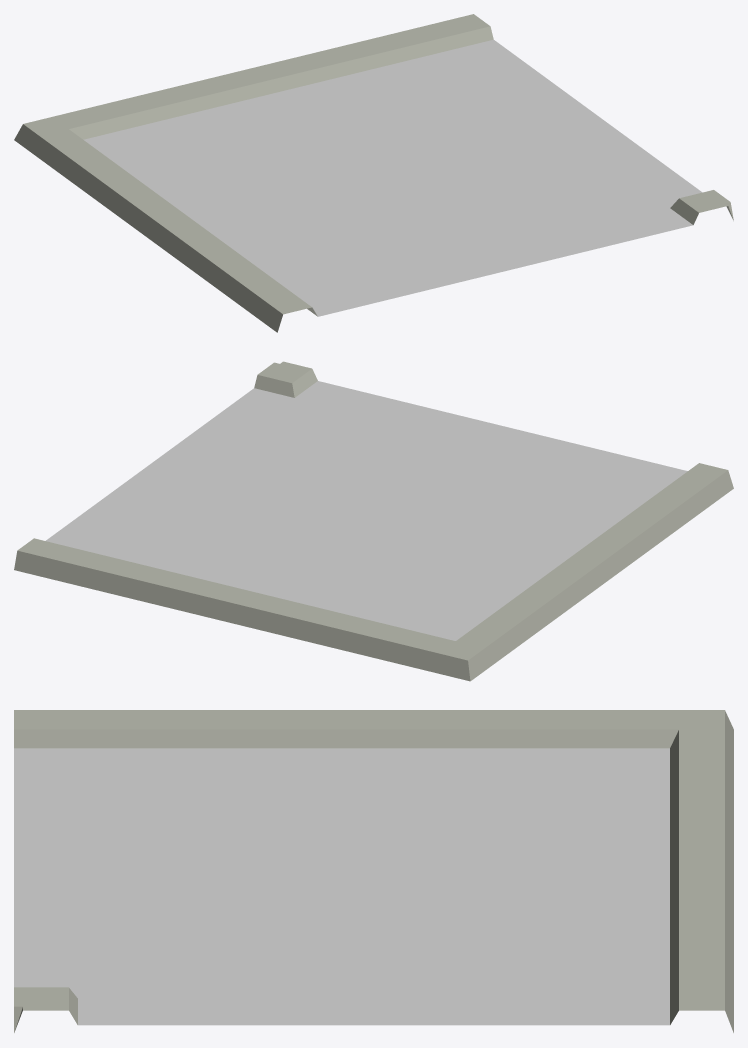
File: ParkRoad_3_D.fbx
3 renders of one model, top to bottom at view 1: azimuth 30°, elevation 25°; view 2: azimuth 150°, elevation 25°; view 3: azimuth 270°, elevation 25°, orthographic. The views are drawn at different scales.
Visible parts, largest first — view 1: ParkRoad_3_D; view 2: ParkRoad_3_D; view 3: ParkRoad_3_D.
Part boxes in pixels (left/top/right/bottom): ParkRoad_3_D: left=14, top=14, right=733, bottom=332; ParkRoad_3_D: left=14, top=361, right=733, bottom=681; ParkRoad_3_D: left=14, top=710, right=733, bottom=1032.
Bounding box in the file's own units: 200 × 7.16 × 200.
